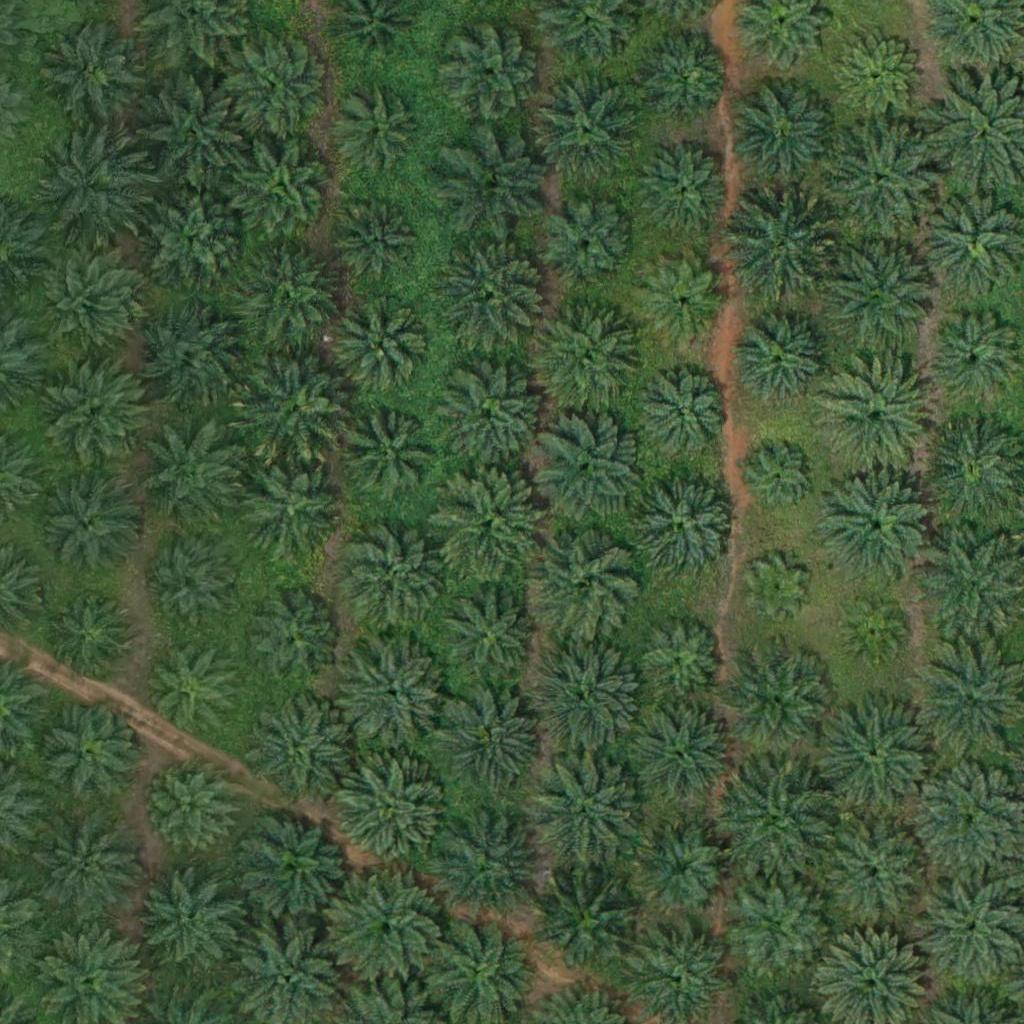Kelapa_Sawit: (729, 78, 842, 192), (721, 191, 834, 305), (534, 865, 647, 979), (242, 690, 355, 804), (37, 357, 150, 471), (438, 243, 551, 356), (433, 362, 546, 475), (727, 300, 840, 413), (819, 362, 932, 475), (821, 473, 934, 586), (818, 699, 931, 812), (526, 528, 639, 641), (530, 641, 643, 754), (531, 756, 644, 869), (431, 466, 544, 579), (433, 586, 546, 699), (234, 811, 347, 924), (32, 697, 145, 810), (827, 123, 939, 237), (824, 235, 936, 349), (429, 805, 541, 919), (339, 636, 451, 750), (335, 757, 447, 871), (135, 421, 247, 535), (32, 18, 144, 131), (33, 133, 145, 246), (138, 80, 250, 193), (135, 298, 247, 411), (239, 250, 351, 363), (438, 122, 550, 235), (531, 69, 643, 182), (528, 300, 640, 413), (818, 818, 930, 931), (722, 645, 834, 758), (721, 767, 833, 880), (630, 472, 742, 585), (624, 703, 736, 816), (530, 413, 642, 526), (434, 688, 546, 801), (340, 520, 452, 633), (236, 354, 348, 467), (35, 810, 147, 923), (330, 872, 442, 985), (145, 193, 245, 294), (234, 38, 334, 139), (232, 135, 332, 236), (331, 295, 431, 396), (440, 18, 540, 119), (537, 189, 637, 290), (632, 820, 732, 921), (337, 404, 437, 505), (141, 867, 241, 968), (732, 875, 832, 976), (41, 254, 141, 354), (634, 27, 734, 127), (634, 141, 734, 241), (240, 463, 340, 563), (241, 593, 341, 693), (140, 636, 240, 736), (37, 478, 137, 578), (639, 373, 727, 461), (833, 32, 921, 120), (636, 613, 724, 701), (334, 198, 421, 287), (337, 85, 424, 173), (639, 257, 726, 345), (142, 544, 229, 632), (149, 763, 236, 851), (40, 591, 127, 679), (842, 600, 905, 663), (750, 446, 813, 509), (745, 557, 808, 620)
